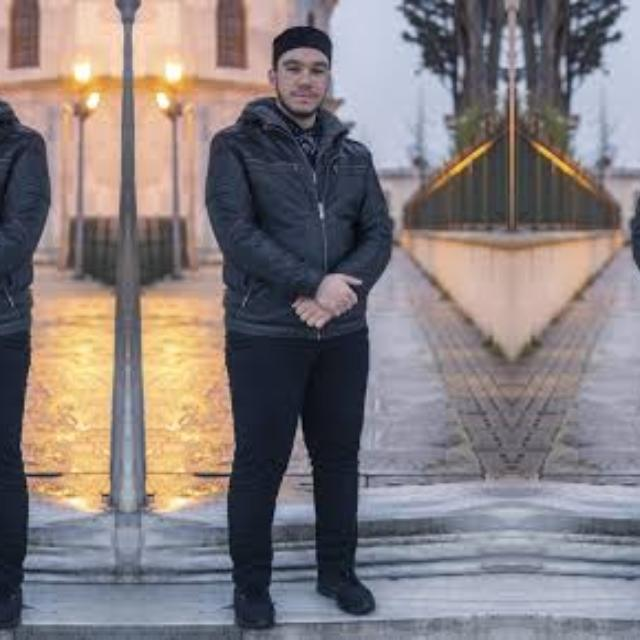person: (202, 0, 408, 632), (0, 0, 54, 632), (615, 0, 640, 632)
